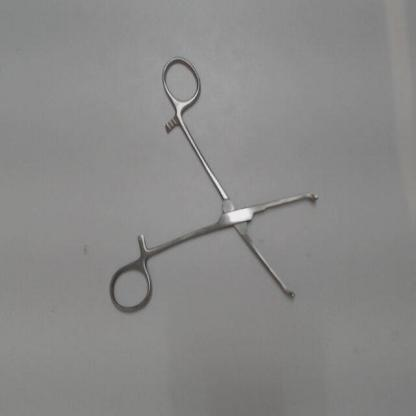Allis Tissue Forceps: (100, 49, 327, 323)
